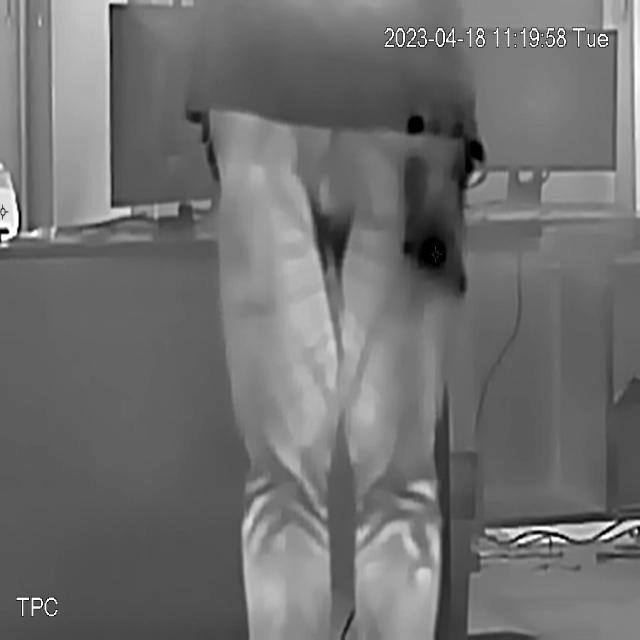Weapon: (398, 146, 488, 304)
